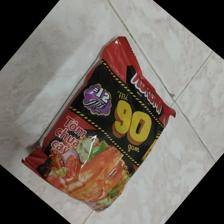Kokomi: (20, 35, 176, 211)
